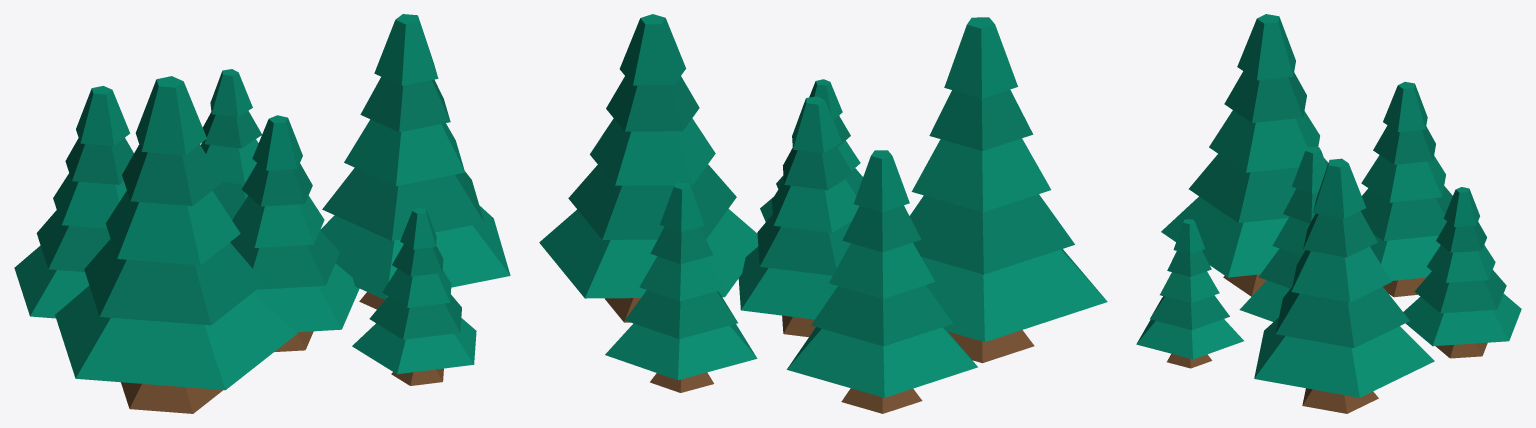
Rendered from tree_2.glb.
3 views of the same model, side by side, from view 1: azimuth 30°, elevation 25°; view 2: azimuth 150°, elevation 25°; view 3: azimuth 270°, elevation 25° (orthographic). The views are drawn at different scales.
Visible parts, largest first — view 1: Circle.003; view 2: Circle.003; view 3: Circle.003.
Part boxes in pixels (x1,y1,x2,y2): Circle.003: (14, 14, 510, 413); Circle.003: (539, 14, 1107, 413); Circle.003: (1136, 14, 1521, 413).
Bounding box in the file's own units: 1.71 × 1.06 × 1.4.
